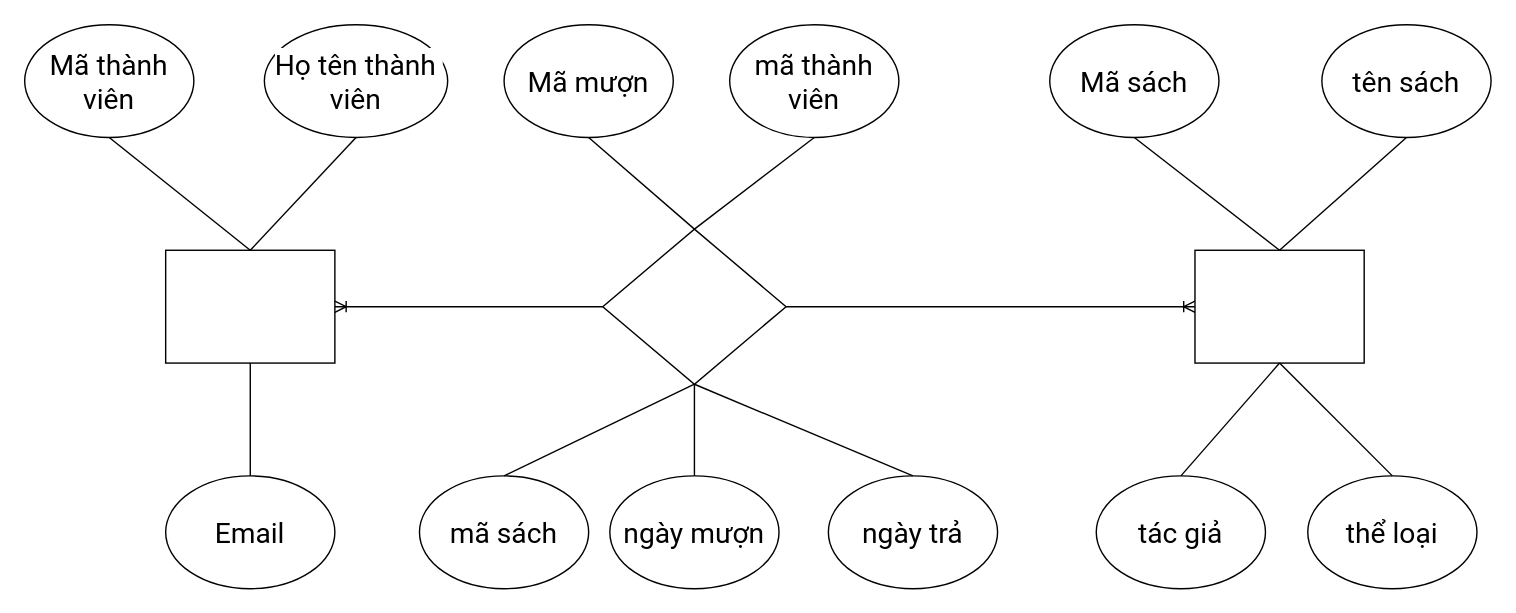
This 1516x613 diagram has some shape labels left out. Here are the shapes that lost their labels. From the top down, the centre of each, then its label:
the point at 249,306: Thành viên
the point at 693,306: Mượn sách
the point at 1279,306: sách
